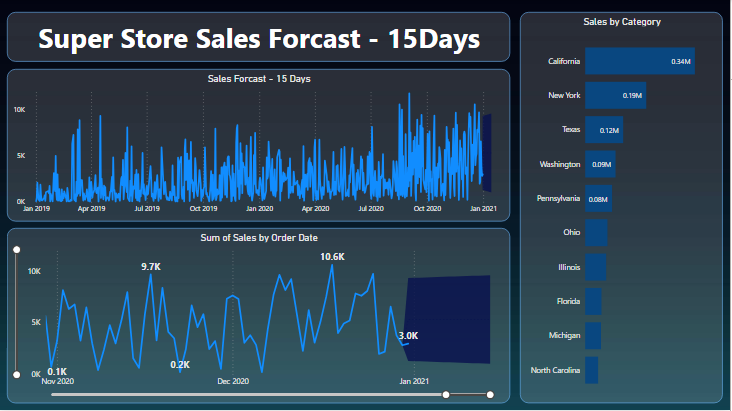

What the dashboard file says about the page in this screenshot:
{"tool":"powerbi","page":{"name":"Page 2","canvas":[1280,720],"ordinal":1},"visuals":[{"type":"lineChart","title":"Sales Forcast - 15 Days","fields":{"Y":["Sum(Sheet1.Sales)"],"Category":["Sheet1.Order Date"]},"box":[14.1,121.8,881,266.6],"z":0},{"type":"lineChart","fields":{"Y":["Sum(Sheet1.Sales)"],"Category":["Sheet1.Order Date"]},"box":[14.1,400.8,881,307.2],"z":1000},{"type":"textbox","box":[14.1,23,881,86.5],"z":2000},{"type":"clusteredBarChart","title":"Sales by Category","fields":{"Y":["Sum(Sheet1.Sales)"],"Category":["Superstrore_sales.State"]},"box":[912.3,22.8,355.5,684.7],"z":3000}]}

Visuals, with their boxes in screenshot pixels (x1, y1, x2, y2), scaled from the page's 1280x720 canvas onto the 732x411 screenshot:
"Sales Forcast - 15 Days" lineChart: {"left": 8, "top": 70, "right": 512, "bottom": 222}
lineChart - Sum(Sheet1.Sales) x Sheet1.Order Date: {"left": 8, "top": 229, "right": 512, "bottom": 404}
textbox: {"left": 8, "top": 13, "right": 512, "bottom": 63}
"Sales by Category" clusteredBarChart: {"left": 522, "top": 13, "right": 725, "bottom": 404}
